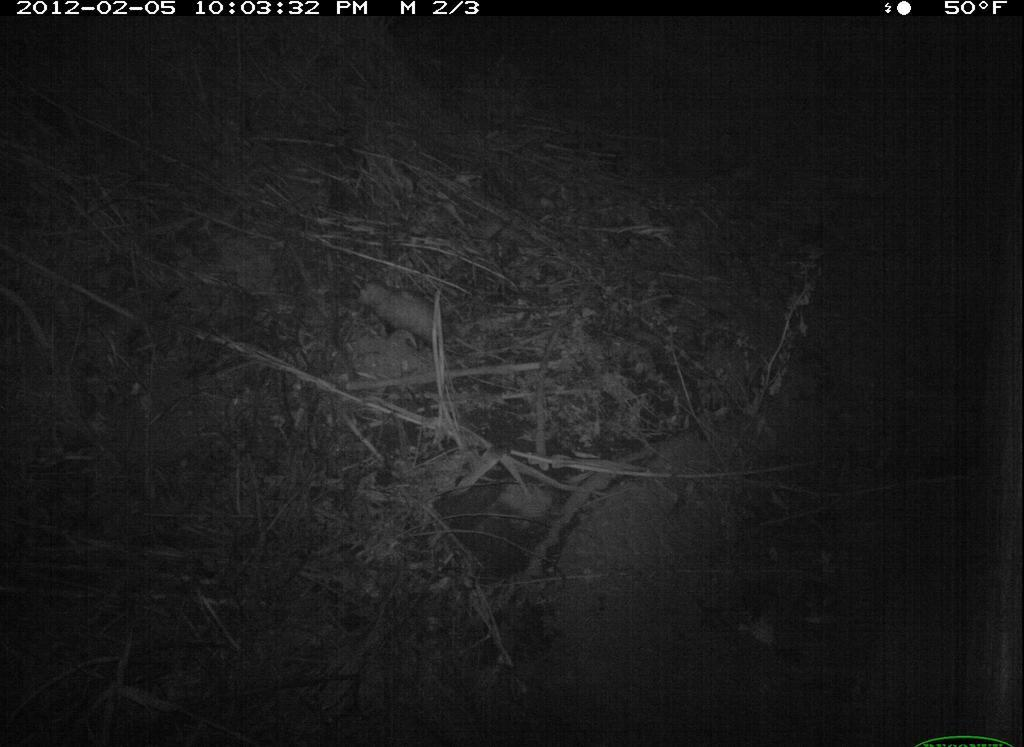opossum: (350, 271, 500, 373)
